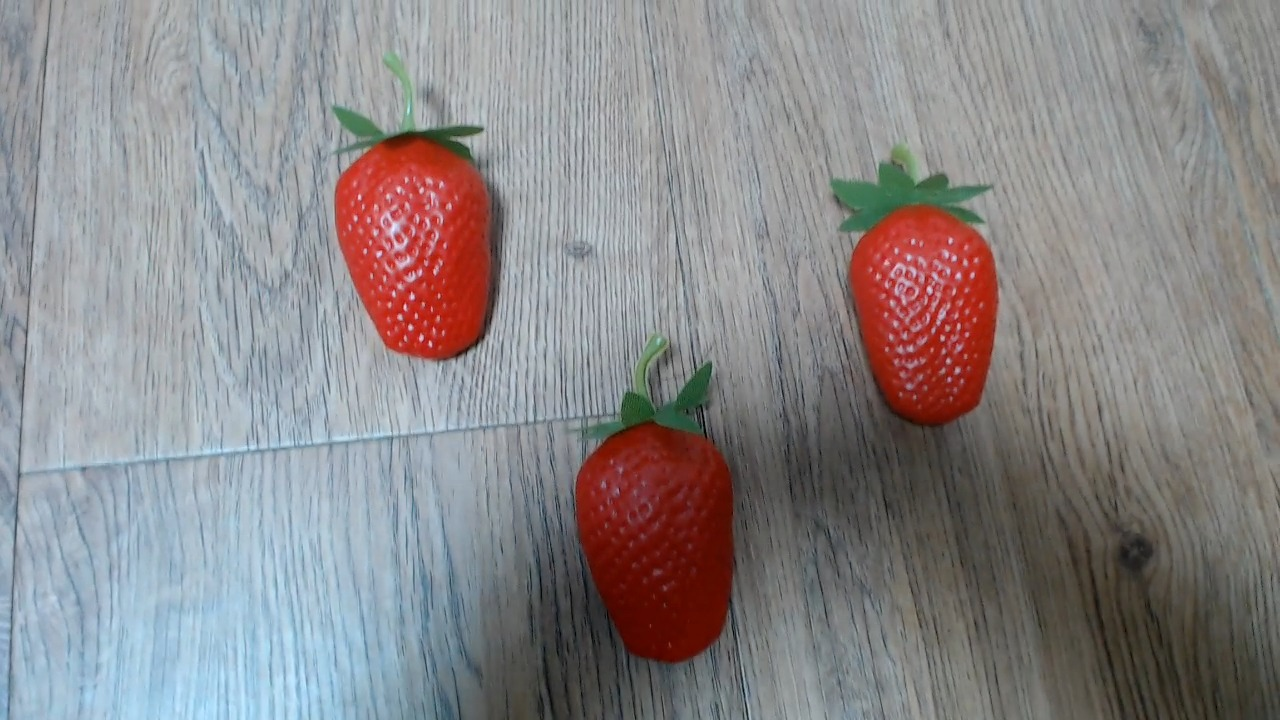strawberry: (550, 397, 764, 667), (321, 114, 524, 374), (843, 170, 1000, 430)
